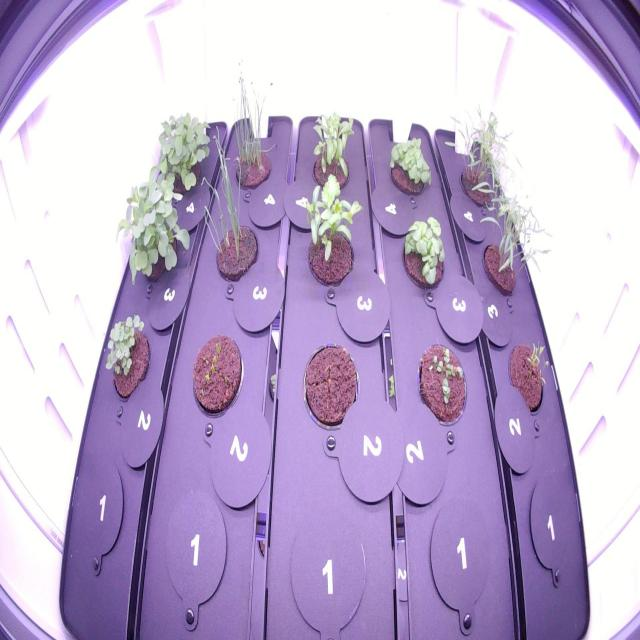empty_pod: (418, 485, 498, 623), (284, 503, 371, 628), (159, 485, 233, 611), (524, 474, 580, 590), (78, 456, 129, 564)
germination: (298, 173, 366, 296), (183, 324, 248, 425), (96, 304, 158, 407), (412, 336, 476, 433), (500, 326, 560, 426), (303, 103, 357, 196)
pod: (296, 336, 364, 436)
